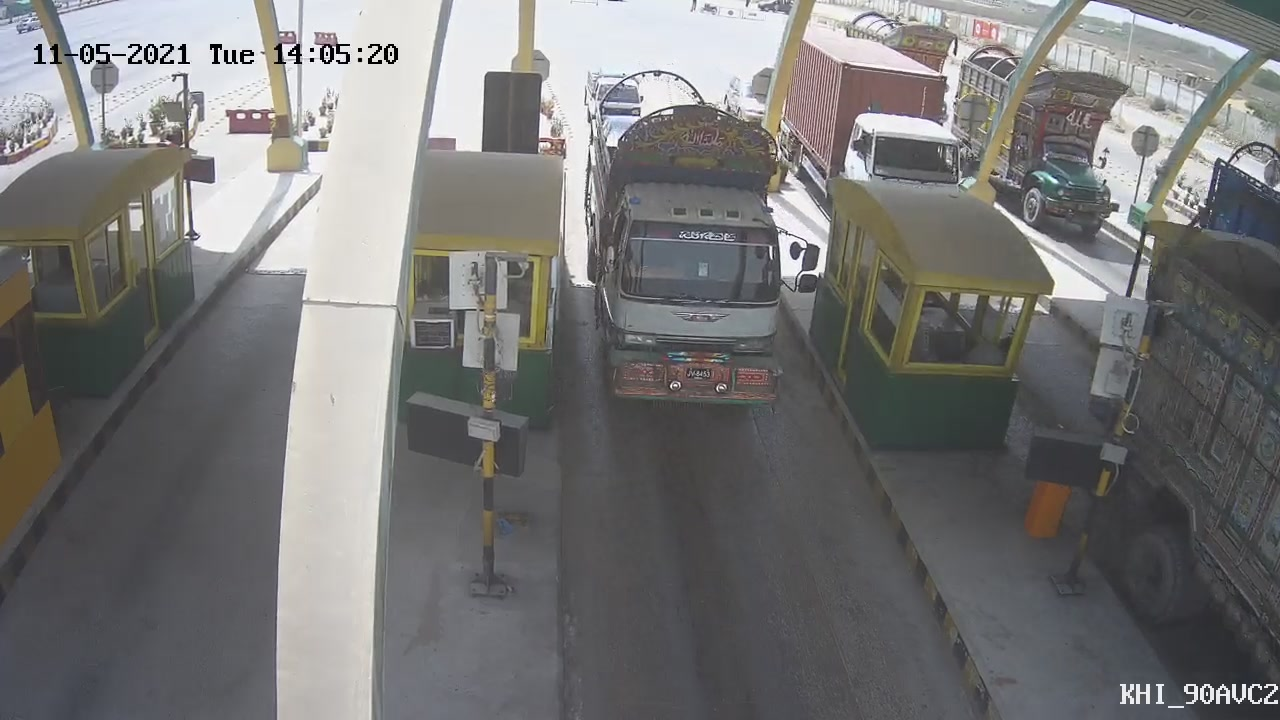F5: (581, 67, 795, 427)
